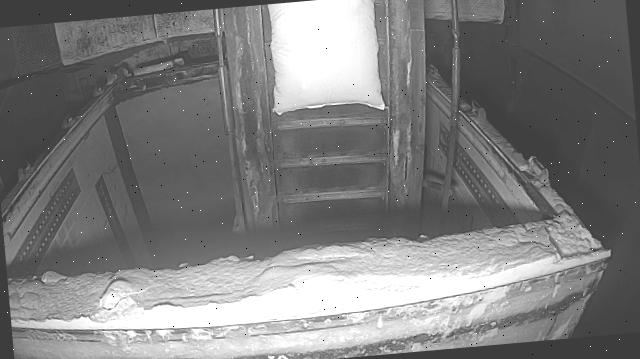bag: (264, 0, 385, 117)
